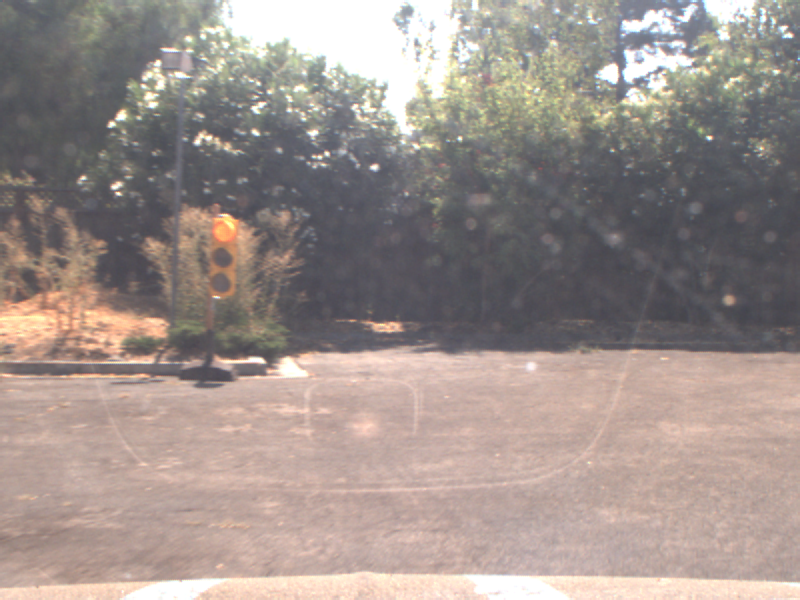red: (207, 212, 236, 302)
